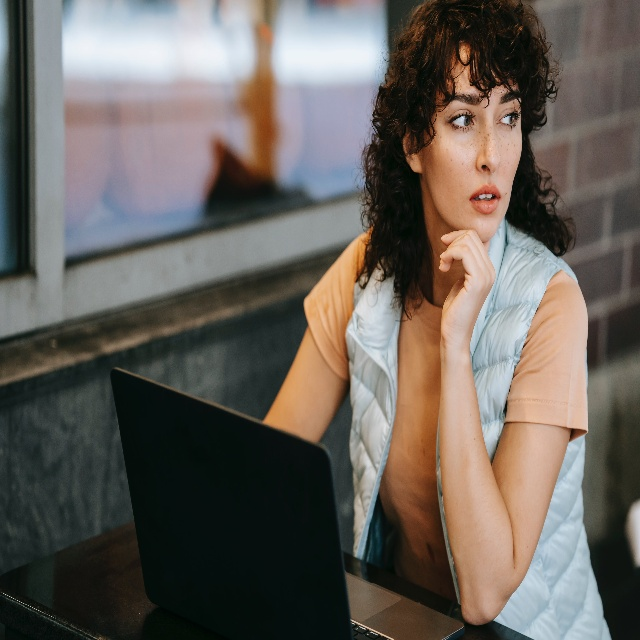Sin_guantes: (438, 228, 496, 347)
